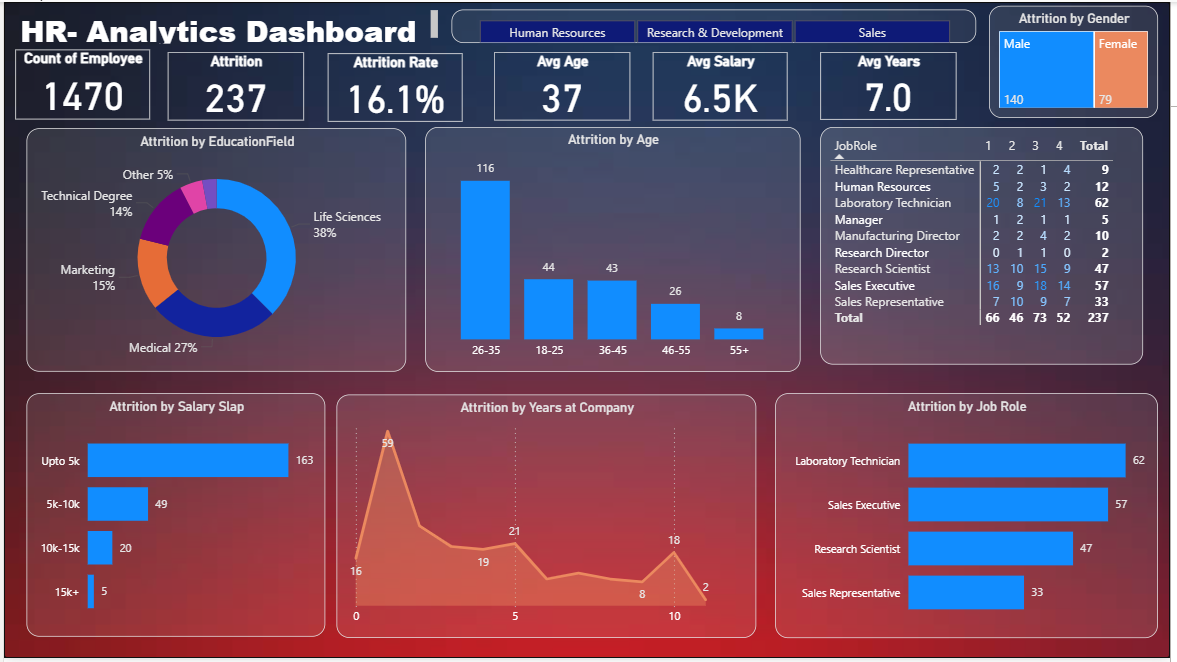

What the dashboard file says about the page in this screenshot:
{"tool":"powerbi","page":{"name":"Page 1","canvas":[1280,720],"ordinal":0},"visuals":[{"type":"card","title":"Count of Employee","fields":{"Values":["CountNonNull(HR_Analytics.EmpID)"]},"box":[12.3,52.1,148.2,76.8],"z":0},{"type":"card","title":"Attrition","fields":{"Values":["Sum(HR_Analytics.AttritionCount)"]},"box":[179.8,54.9,149.6,75.5],"z":1000},{"type":"card","title":"Attrition Rate","fields":{"Values":["HR_Analytics.AttritionRate"]},"box":[355.4,56.3,148.2,75.5],"z":2000},{"type":"card","title":"Avg Age","fields":{"Values":["Avg(HR_Analytics.Age)"]},"box":[537.9,54.9,149.6,75.5],"z":3000},{"type":"card","title":"Avg Salary","fields":{"Values":["Avg(HR_Analytics.MonthlyIncome)"]},"box":[712.2,54.9,148.2,75.5],"z":4000},{"type":"card","title":"Avg Years","fields":{"Values":["Avg(HR_Analytics.YearsAtCompany)"]},"box":[896.1,54.9,149.6,74.1],"z":5000},{"type":"donutChart","title":" Attrition by EducationField","fields":{"Category":["HR_Analytics.EducationField"],"Y":["Sum(HR_Analytics.AttritionCount)"]},"box":[24.7,138.6,417.2,267.6],"z":6000},{"type":"columnChart","title":" Attrition by Age","fields":{"Category":["HR_Analytics.AgeGroup"],"Y":["Sum(HR_Analytics.AttritionCount)"]},"box":[462.4,137.2,411.7,269],"z":7000},{"type":"pivotTable","fields":{"Rows":["HR_Analytics.JobRole"],"Columns":["HR_Analytics.JobSatisfaction"],"Values":["Sum(HR_Analytics.AttritionCount)"]},"box":[896.1,137.2,354,260.7],"z":8000},{"type":"barChart","title":" Attrition by Salary Slap","fields":{"Category":["HR_Analytics.SalarySlab"],"Y":["Sum(HR_Analytics.AttritionCount)"]},"box":[24.7,429.5,328,267.6],"z":9000},{"type":"barChart","title":" Attrition by Job Role","fields":{"Category":["HR_Analytics.JobRole"],"Y":["Sum(HR_Analytics.AttritionCount)"]},"box":[846.7,429.5,419.9,269],"z":10000},{"type":"areaChart","title":" Attrition by Years at Company","fields":{"Category":["HR_Analytics.YearsAtCompany"],"Y":["Sum(HR_Analytics.AttritionCount)"]},"box":[365,430.9,461.1,267.6],"z":11000},{"type":"treemap","title":" Attrition by Gender","fields":{"Group":["HR_Analytics.Gender"],"Values":["Sum(HR_Analytics.AttritionCount)"]},"box":[1081.3,4.1,185.2,123.5],"z":12000},{"type":"slicer","fields":{"Values":["HR_Analytics.Department"]},"box":[491.3,8.2,576.3,37],"z":13000},{"type":"textbox","box":[12.3,4.1,469.3,46.7],"z":14000}]}

Visuals, with their boxes in screenshot pixels (x1, y1, x2, y2), scaled from the page's 1280x720 canvas onto the 1177x662 screenshot:
"Count of Employee" card: box=[11, 48, 148, 119]
"Attrition" card: box=[165, 50, 303, 120]
"Attrition Rate" card: box=[327, 52, 463, 121]
"Avg Age" card: box=[495, 50, 632, 120]
"Avg Salary" card: box=[655, 50, 791, 120]
"Avg Years" card: box=[824, 50, 962, 119]
" Attrition by EducationField" donutChart: box=[23, 127, 406, 373]
" Attrition by Age" columnChart: box=[425, 126, 804, 373]
pivotTable - HR_Analytics.JobRole x HR_Analytics.JobSatisfaction: box=[824, 126, 1150, 366]
" Attrition by Salary Slap" barChart: box=[23, 395, 324, 641]
" Attrition by Job Role" barChart: box=[779, 395, 1165, 642]
" Attrition by Years at Company" areaChart: box=[336, 396, 760, 642]
" Attrition by Gender" treemap: box=[994, 4, 1165, 117]
slicer - HR_Analytics.Department: box=[452, 8, 982, 42]
textbox: box=[11, 4, 443, 47]
